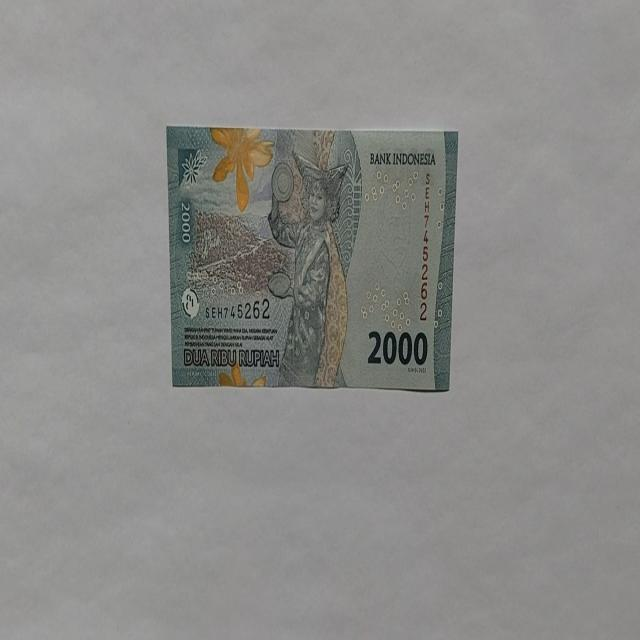dua ribu rupiah: (166, 125, 458, 392), (266, 148, 350, 388), (209, 125, 275, 212)
